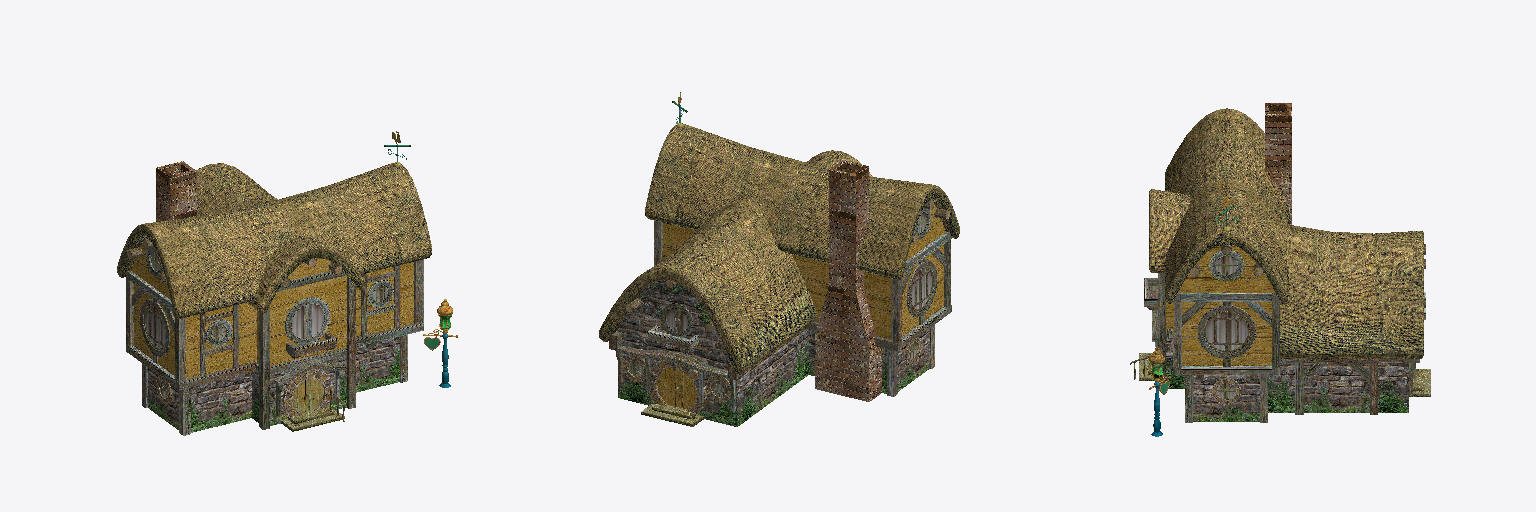
3 renders of one model, left to right at view 1: azimuth 30°, elevation 25°; view 2: azimuth 150°, elevation 25°; view 3: azimuth 270°, elevation 25°, orthographic.
Visible parts, largest first — view 1: VillageInn_Untitled.003; view 2: VillageInn_Untitled.003; view 3: VillageInn_Untitled.003.
Boxes of the visible parts, box(x1,y1,x2,y2) form: VillageInn_Untitled.003: box(117, 131, 457, 435); VillageInn_Untitled.003: box(599, 92, 959, 426); VillageInn_Untitled.003: box(1130, 103, 1430, 436).
Bounding box in the file's own units: 20.65 × 16.68 × 19.62.
1 materials, 1 textured.